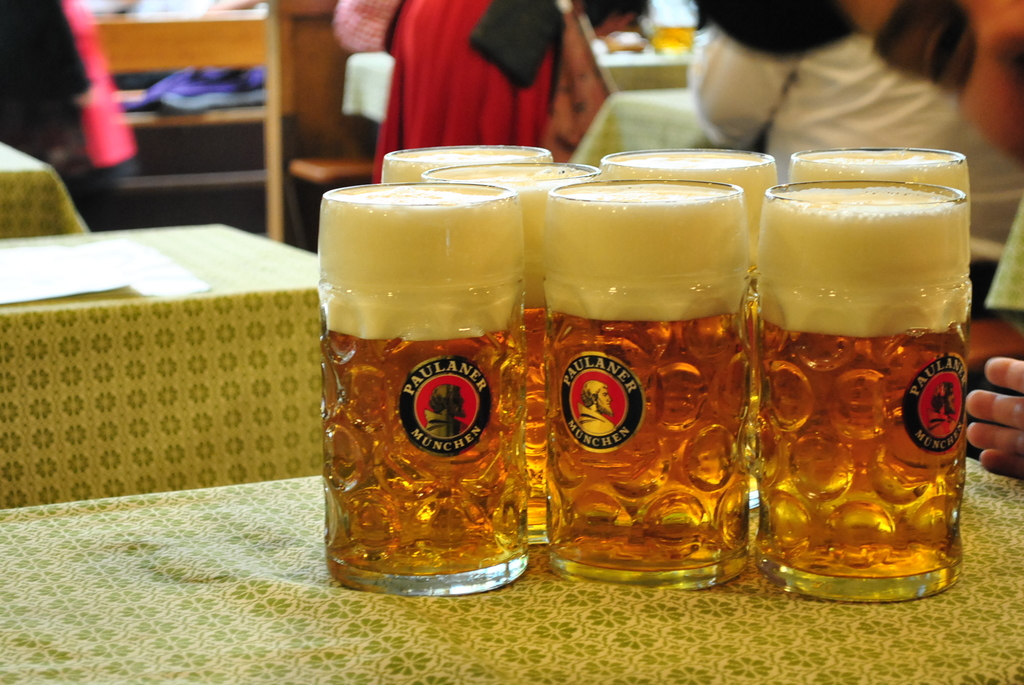Beer: (316, 142, 974, 594)
